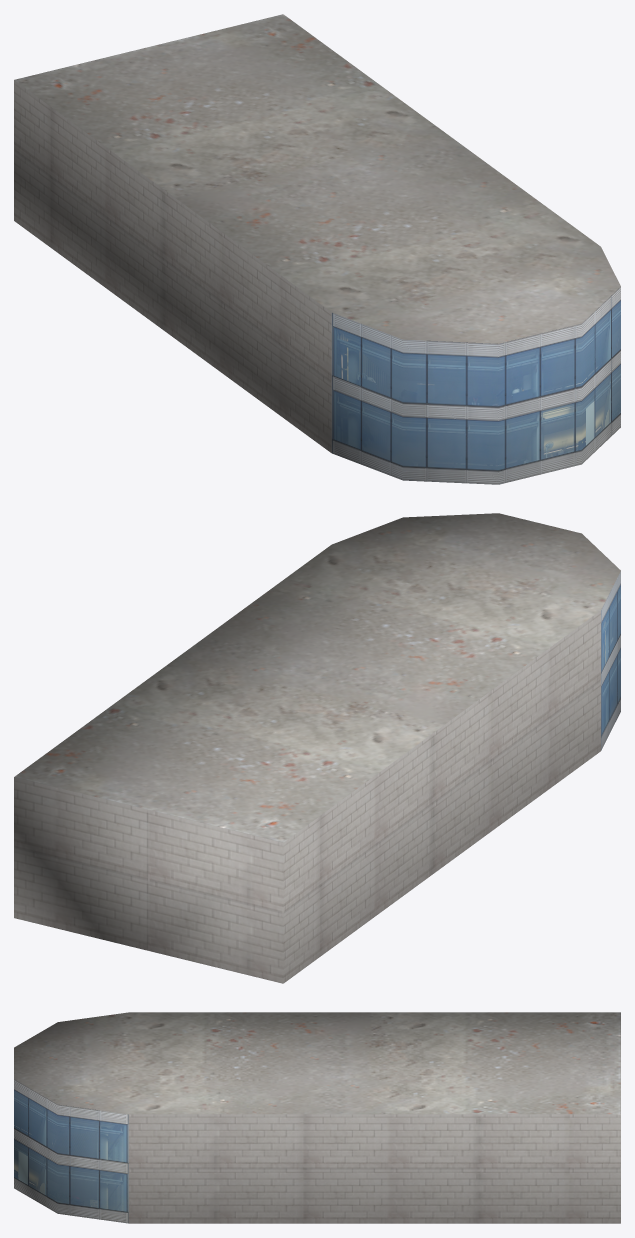
The model's file is SurroundingEnvironment_BuildingStackable6.fbx.
3 views of the same model, one above another, from view 1: azimuth 30°, elevation 25°; view 2: azimuth 150°, elevation 25°; view 3: azimuth 270°, elevation 25° (orthographic). The views are drawn at different scales.
Parts seen in each view (by area): view 1: BuildingStackable6; view 2: BuildingStackable6; view 3: BuildingStackable6.
Part boxes in pixels (x1,y1,x2,y2): BuildingStackable6: (14,14,620,484); BuildingStackable6: (14,513,620,983); BuildingStackable6: (14,1012,620,1223).
Bounding box in the file's own units: 782 × 391 × 1970.
